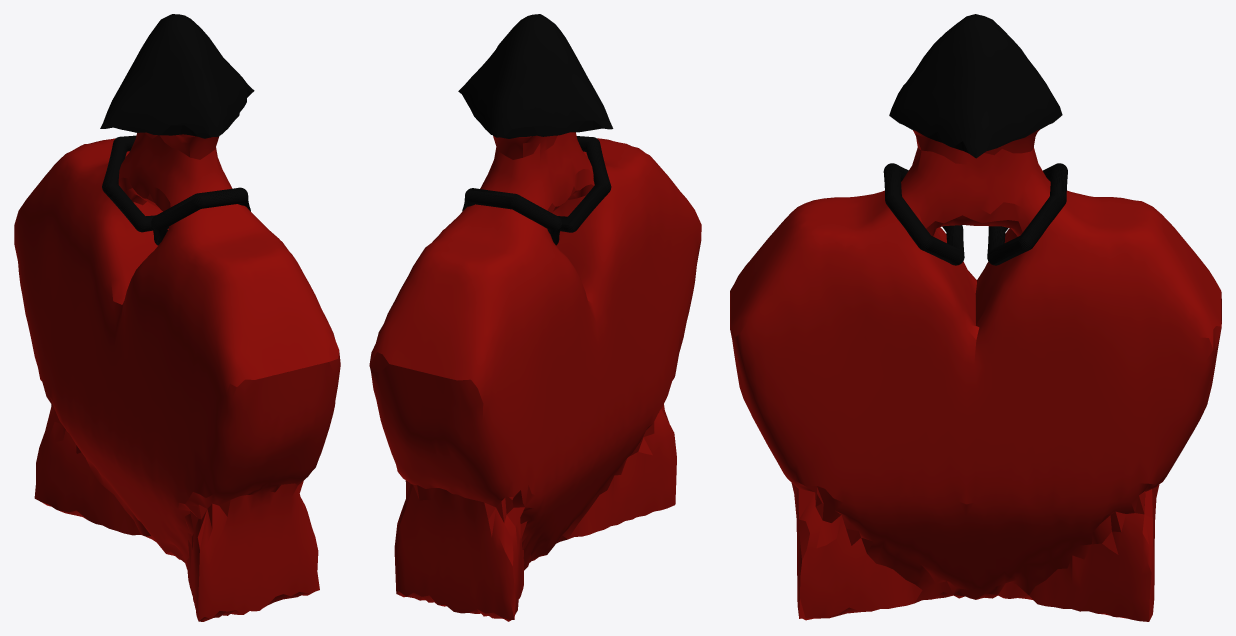
The model's file is iksir4.fbx.
3 views of the same model, side by side, from view 1: azimuth 30°, elevation 25°; view 2: azimuth 150°, elevation 25°; view 3: azimuth 270°, elevation 25° (orthographic). The views are drawn at different scales.
Visible parts, largest first — view 1: iksir4; view 2: iksir4; view 3: iksir4.
Part boxes in pixels (x1,y1,x2,y2): iksir4: (14, 14, 340, 621); iksir4: (369, 14, 701, 621); iksir4: (730, 14, 1221, 621).
Bounding box in the file's own units: 73.42 × 243 × 187.
